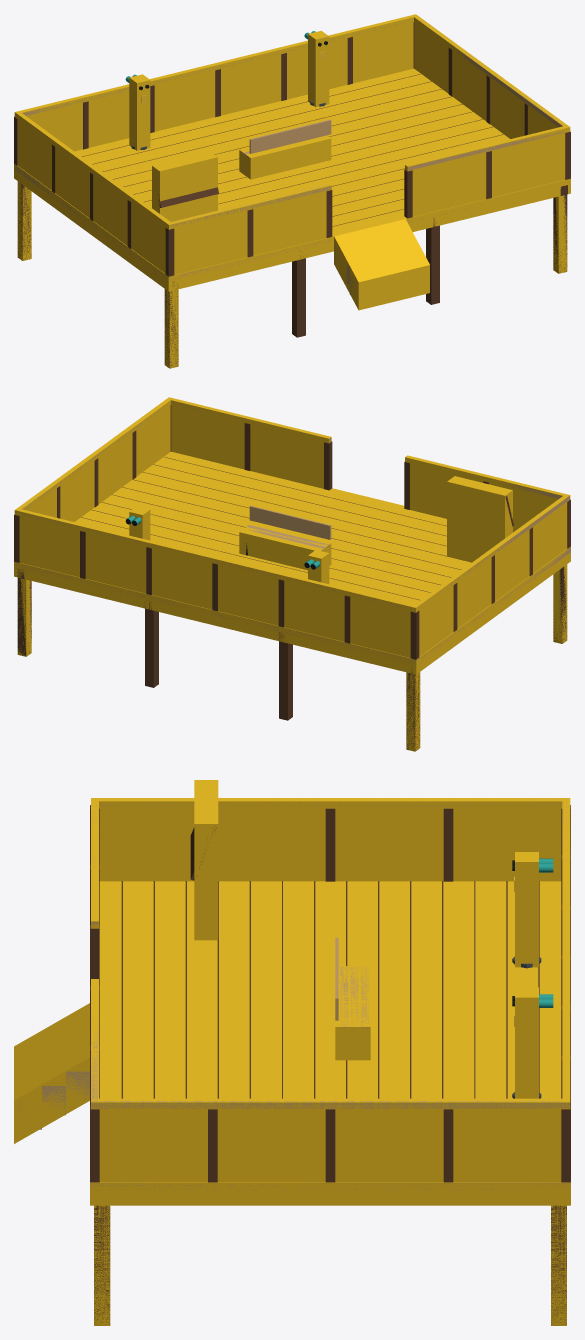
The model's file is lm_viewpoint.glb.
3 renders of one model, top to bottom at view 1: azimuth 30°, elevation 25°; view 2: azimuth 150°, elevation 25°; view 3: azimuth 270°, elevation 25°, orthographic. The views are drawn at different scales.
Parts seen in each view (by area): view 1: lm_viewpoint__col, lm_viewpoint__shell; view 2: lm_viewpoint__col, lm_viewpoint__shell; view 3: lm_viewpoint__col, lm_viewpoint__shell.
Boxes of the visible parts, bbox=[...] form: lm_viewpoint__col: bbox=[14, 14, 570, 368]; lm_viewpoint__shell: bbox=[14, 20, 570, 367]; lm_viewpoint__col: bbox=[14, 397, 570, 751]; lm_viewpoint__shell: bbox=[14, 401, 570, 750]; lm_viewpoint__col: bbox=[14, 780, 570, 1325]; lm_viewpoint__shell: bbox=[18, 798, 570, 1325].
Bounding box in the file's own units: 9 × 3.6 × 6.95.
1 material, 1 textured.
